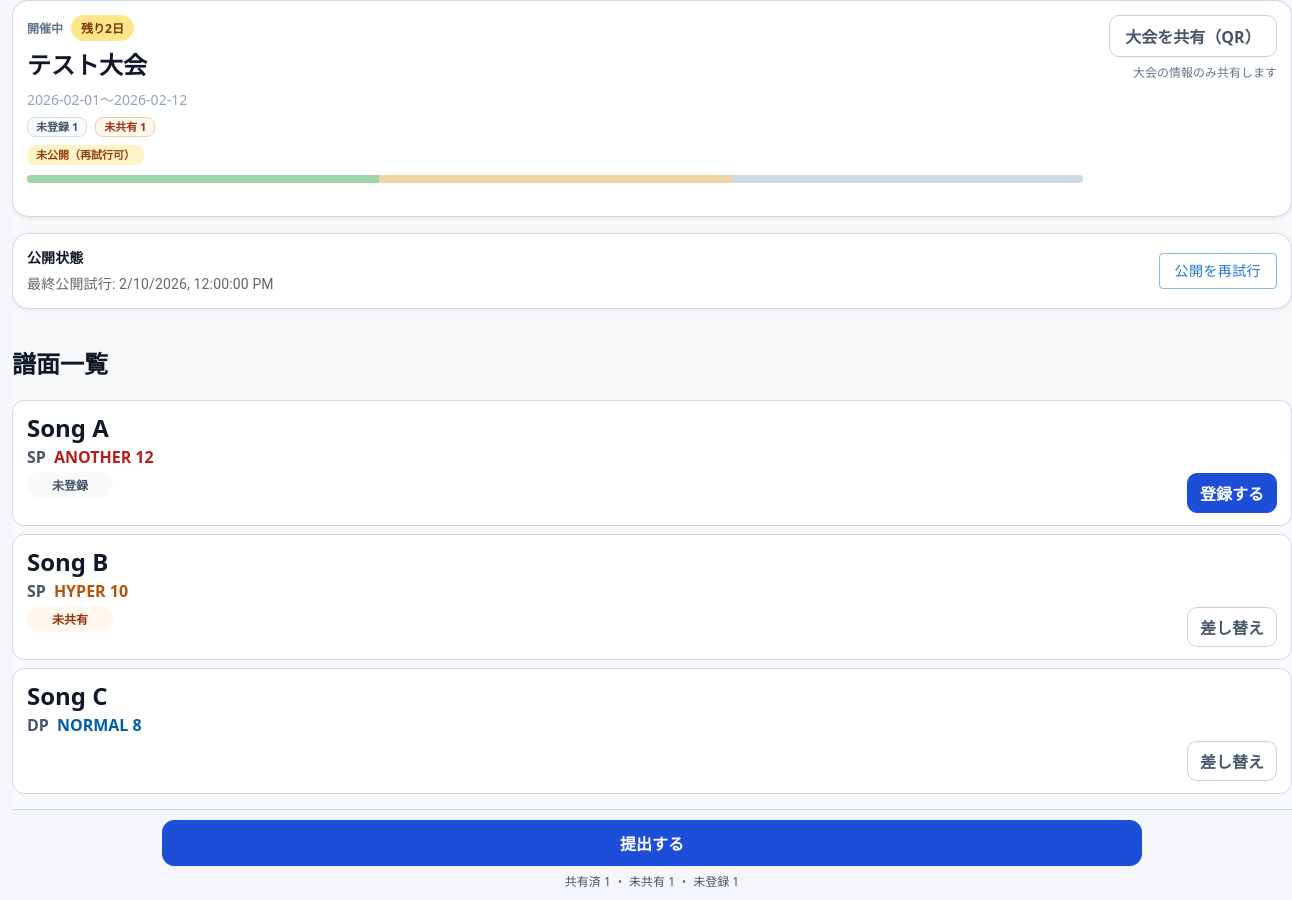
Test case: TournamentDetailPage › retries publication from detail when local tournament is retryable
Expected: the text with test id "tournament-summary-publication-detail" reads "未公開（再試行可）", [36, 147, 135, 162]
Expected: the text with test id "tournament-detail-publication-last-attempt" shows "2026", [27, 276, 274, 292]
Click the button with test id "tournament-detail-publication-retry-button". click: [1218, 271]
box: [1159, 253, 1277, 289]
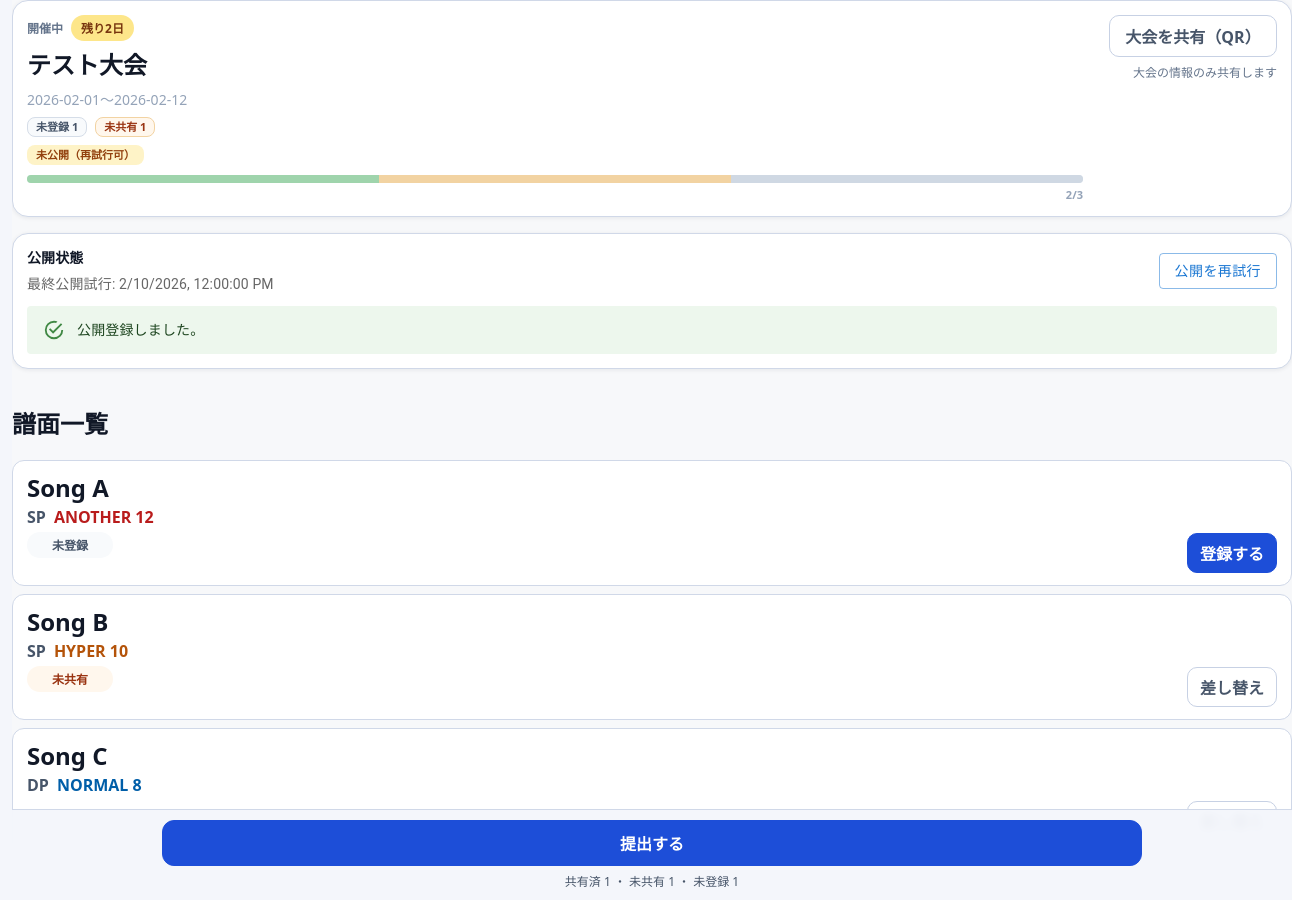
Now the message with test id "tournament-detail-publication-notice" reads "公開登録しました。", box [77, 322, 204, 338]
